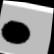correct: (0, 16, 34, 48)
